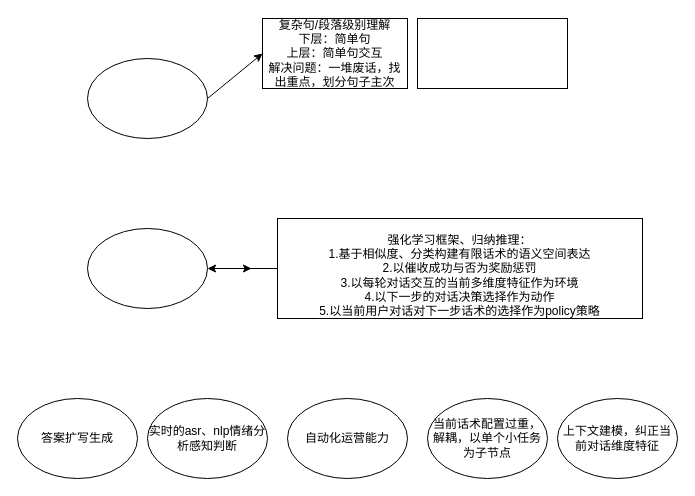
The diagram is 695 pixels wide and 496 high, and some of its shapes have lost their labels. Here are the shapes that lost their labels. From the top down, the centre of each, then its label:
At point (492, 53): "抽象为复杂语义理解、推理".
At point (147, 98): "query理解".
At point (147, 268): "多轮对话".
